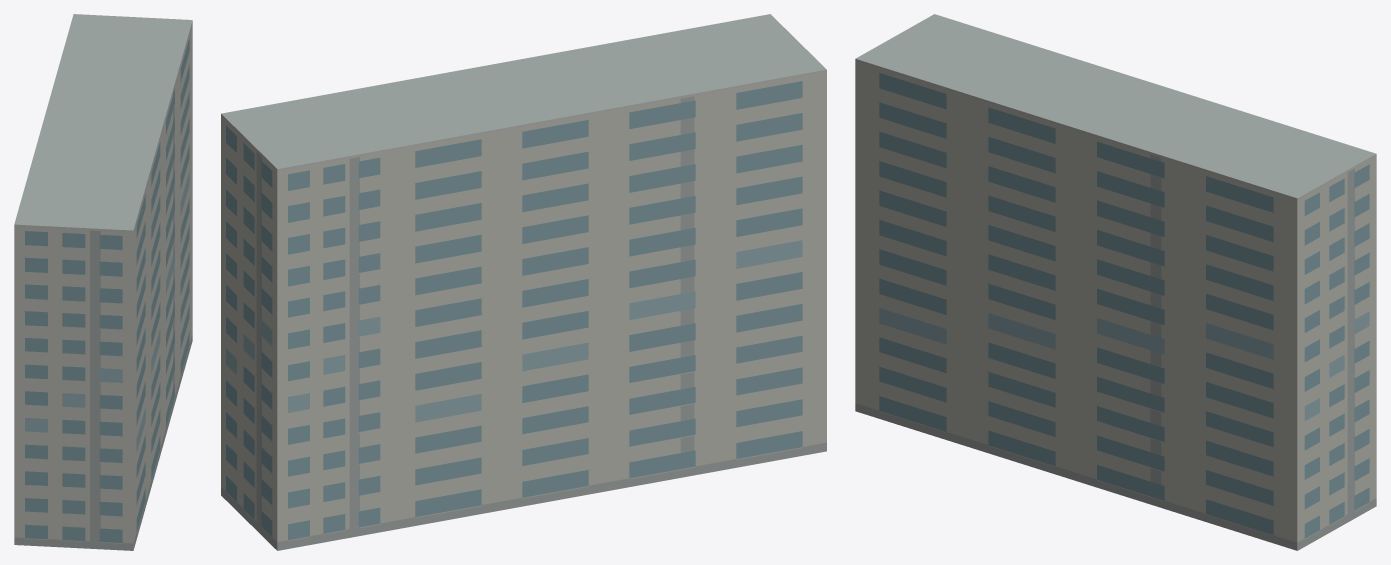
Rendered from residential-98e00700-c80b-4da5-8110-2f96959bbb34.glb.
3 renders of one model, left to right at view 1: azimuth 30°, elevation 25°; view 2: azimuth 150°, elevation 25°; view 3: azimuth 270°, elevation 25°, orthographic. The views are drawn at different scales.
Visible parts, largest first — view 1: residential-98e00700-c80b-4da5-8110-2f96959bbb34.tmp; view 2: residential-98e00700-c80b-4da5-8110-2f96959bbb34.tmp; view 3: residential-98e00700-c80b-4da5-8110-2f96959bbb34.tmp.
Boxes of the visible parts, left/top/right/bottom form: residential-98e00700-c80b-4da5-8110-2f96959bbb34.tmp: left=14, top=14, right=192, bottom=550; residential-98e00700-c80b-4da5-8110-2f96959bbb34.tmp: left=221, top=14, right=826, bottom=550; residential-98e00700-c80b-4da5-8110-2f96959bbb34.tmp: left=855, top=14, right=1376, bottom=550.
Size of the model in its own units: 38.15 by 34 by 45.56.
